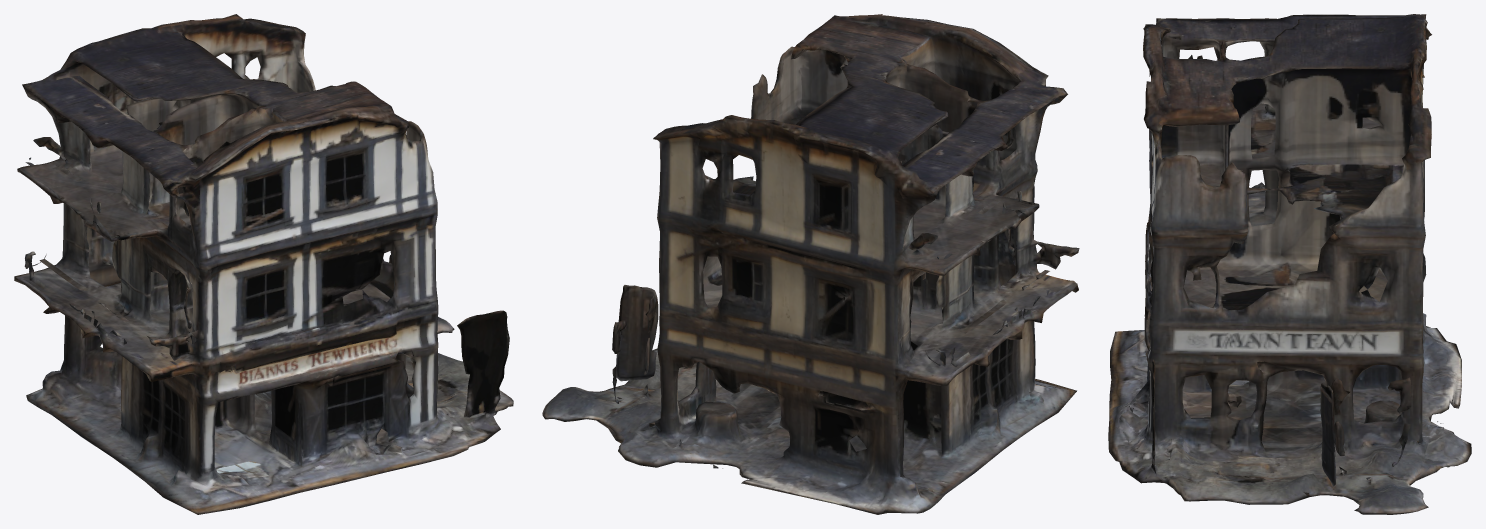
Rendered from Crumbling_three_story_0403233632.fbx.
3 renders of one model, left to right at view 1: azimuth 30°, elevation 25°; view 2: azimuth 150°, elevation 25°; view 3: azimuth 270°, elevation 25°, orthographic. The views are drawn at different scales.
Visible parts, largest first — view 1: Mesh_0; view 2: Mesh_0; view 3: Mesh_0.
Part boxes in pixels (x1,y1,x2,y2): Mesh_0: (14,14,513,514); Mesh_0: (542,14,1079,514); Mesh_0: (1108,14,1471,514).
Size of the model in its own units: 200 by 163 by 156.
1 material, 1 textured.
